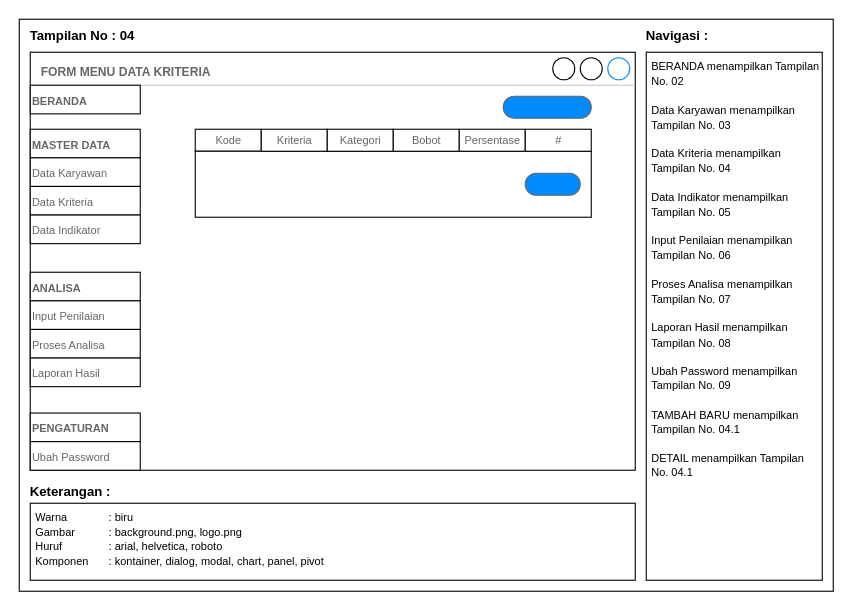
Image size: 853x611. Some labels were removed from this diagram. The box of each missing label's shape, as (x1, y1, x2, y2) in pixels:
DETAIL: (524, 172, 580, 195)
TAMBAH BARU: (502, 95, 591, 118)
